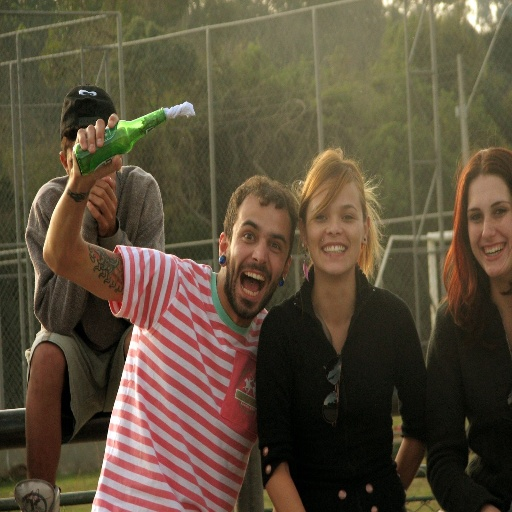hand: (38, 143, 113, 302), (86, 174, 118, 238)
